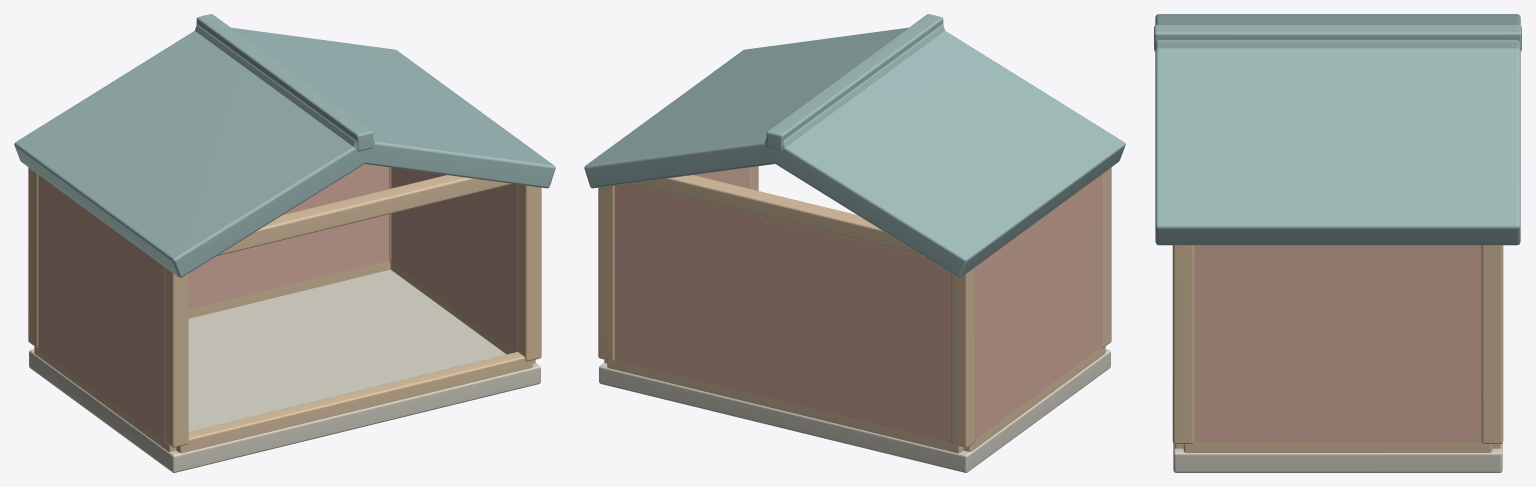
The model's file is cattle-shelter-roof.glb.
3 views of the same model, side by side, from view 1: azimuth 30°, elevation 25°; view 2: azimuth 150°, elevation 25°; view 3: azimuth 270°, elevation 25° (orthographic). The views are drawn at different scales.
Parts seen in each view (by area): view 1: Padded roof plane.012, Rounded stone footing.018, Side panel.012, Padded roof plane.013, Side panel.013, Back panel.006, Sill beam.072, Eave beam.020, Corner post.054, Corner post.052, Ridge cap.006, Sill beam.073 (+3 smaller); view 2: Back panel.006, Padded roof plane.012, Side panel.012, Padded roof plane.013, Rounded stone footing.018, Eave beam.021, Corner post.053, Ridge cap.006, Sill beam.073, Corner post.055, Corner post.052, Sill beam.074 (+1 smaller); view 3: Padded roof plane.013, Side panel.013, Padded roof plane.012, Rounded stone footing.018, Ridge cap.006, Corner post.054, Corner post.055, Sill beam.075.
Part boxes in pixels (box(x1,y1,x2,y2)): Padded roof plane.012: box(14, 31, 377, 277); Rounded stone footing.018: box(29, 269, 540, 472); Side panel.012: box(38, 174, 163, 438); Padded roof plane.013: box(195, 24, 555, 188); Side panel.013: box(391, 167, 516, 350); Back panel.006: box(188, 164, 389, 309); Sill beam.072: box(176, 352, 532, 453); Eave beam.020: box(216, 175, 512, 256); Corner post.054: box(517, 184, 541, 361); Corner post.052: box(164, 266, 188, 447); Ridge cap.006: box(196, 14, 373, 151); Sill beam.073: box(188, 261, 390, 318); Back panel.006: box(614, 184, 951, 442); Padded roof plane.012: box(762, 31, 1125, 277); Side panel.012: box(976, 174, 1101, 438); Padded roof plane.013: box(584, 24, 944, 188); Rounded stone footing.018: box(599, 349, 1110, 472); Eave beam.021: box(627, 175, 923, 256); Corner post.053: box(951, 266, 975, 447); Ridge cap.006: box(766, 14, 943, 151); Sill beam.073: box(607, 360, 963, 453); Corner post.055: box(598, 185, 614, 361); Corner post.052: box(1101, 167, 1111, 348); Sill beam.074: box(963, 346, 1105, 451); Padded roof plane.013: box(1155, 48, 1520, 245); Side panel.013: box(1194, 245, 1481, 442); Padded roof plane.012: box(1155, 14, 1520, 49); Rounded stone footing.018: box(1173, 443, 1502, 472); Ridge cap.006: box(1154, 25, 1521, 51); Corner post.054: box(1172, 245, 1194, 444); Corner post.055: box(1481, 245, 1503, 444); Sill beam.075: box(1183, 440, 1492, 452).
Bounding box in the file's own units: 3.9 × 2.94 × 2.86.
